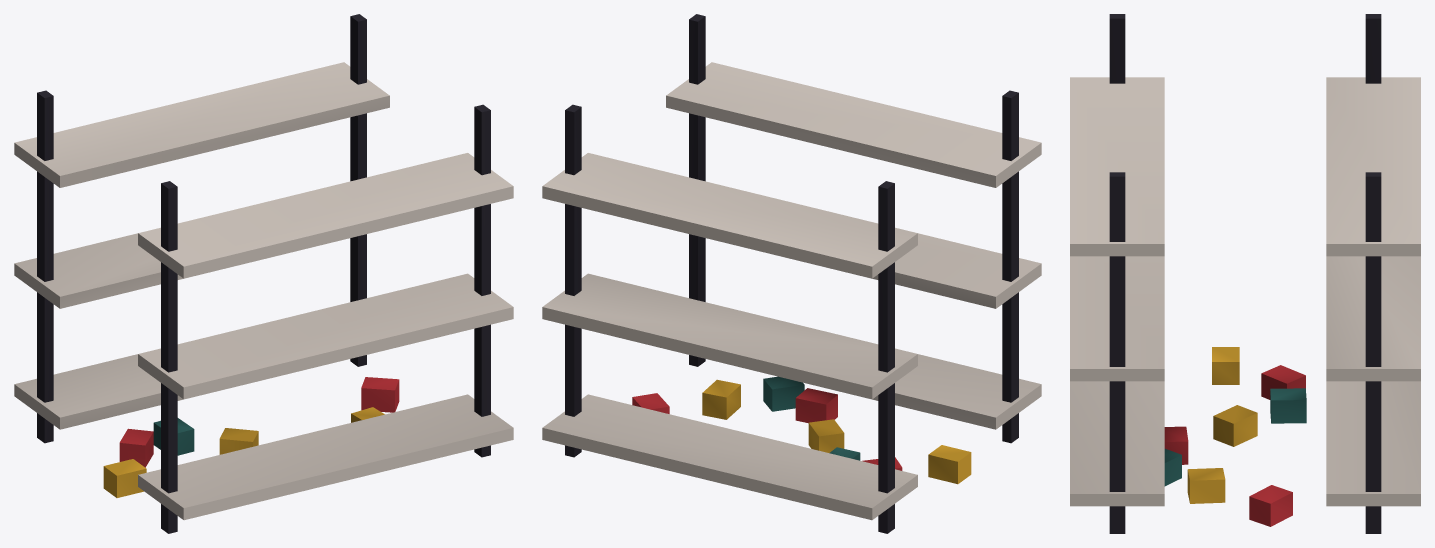
The model's file is decay.looted-store.lod1.glb.
3 views of the same model, side by side, from view 1: azimuth 30°, elevation 25°; view 2: azimuth 150°, elevation 25°; view 3: azimuth 270°, elevation 25° (orthographic). The views are drawn at different scales.
Visible parts, largest first — view 1: body; view 2: body; view 3: body.
Boxes of the visible parts, <box> form: body: <box>14,14,513,533</box>; body: <box>542,14,1041,533</box>; body: <box>1070,14,1420,533</box>.
Size of the model in its own units: 2 by 2 by 1.78.
